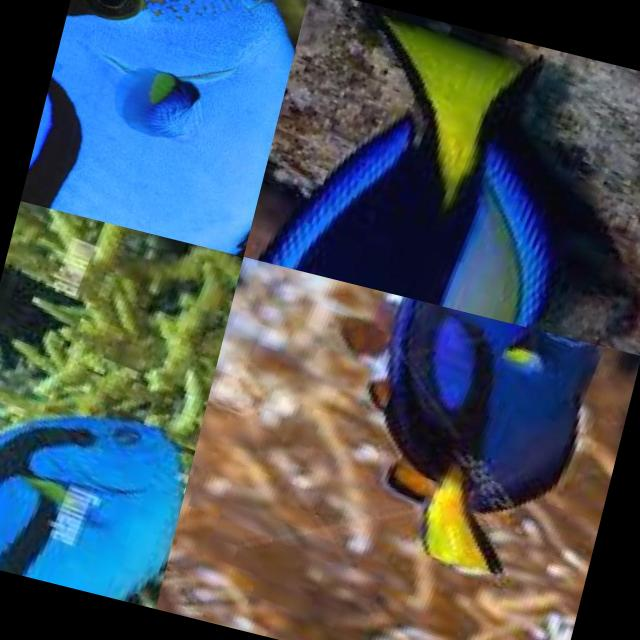BlueTang: (243, 0, 604, 329), (20, 0, 310, 255), (349, 298, 603, 587), (0, 375, 196, 607)
